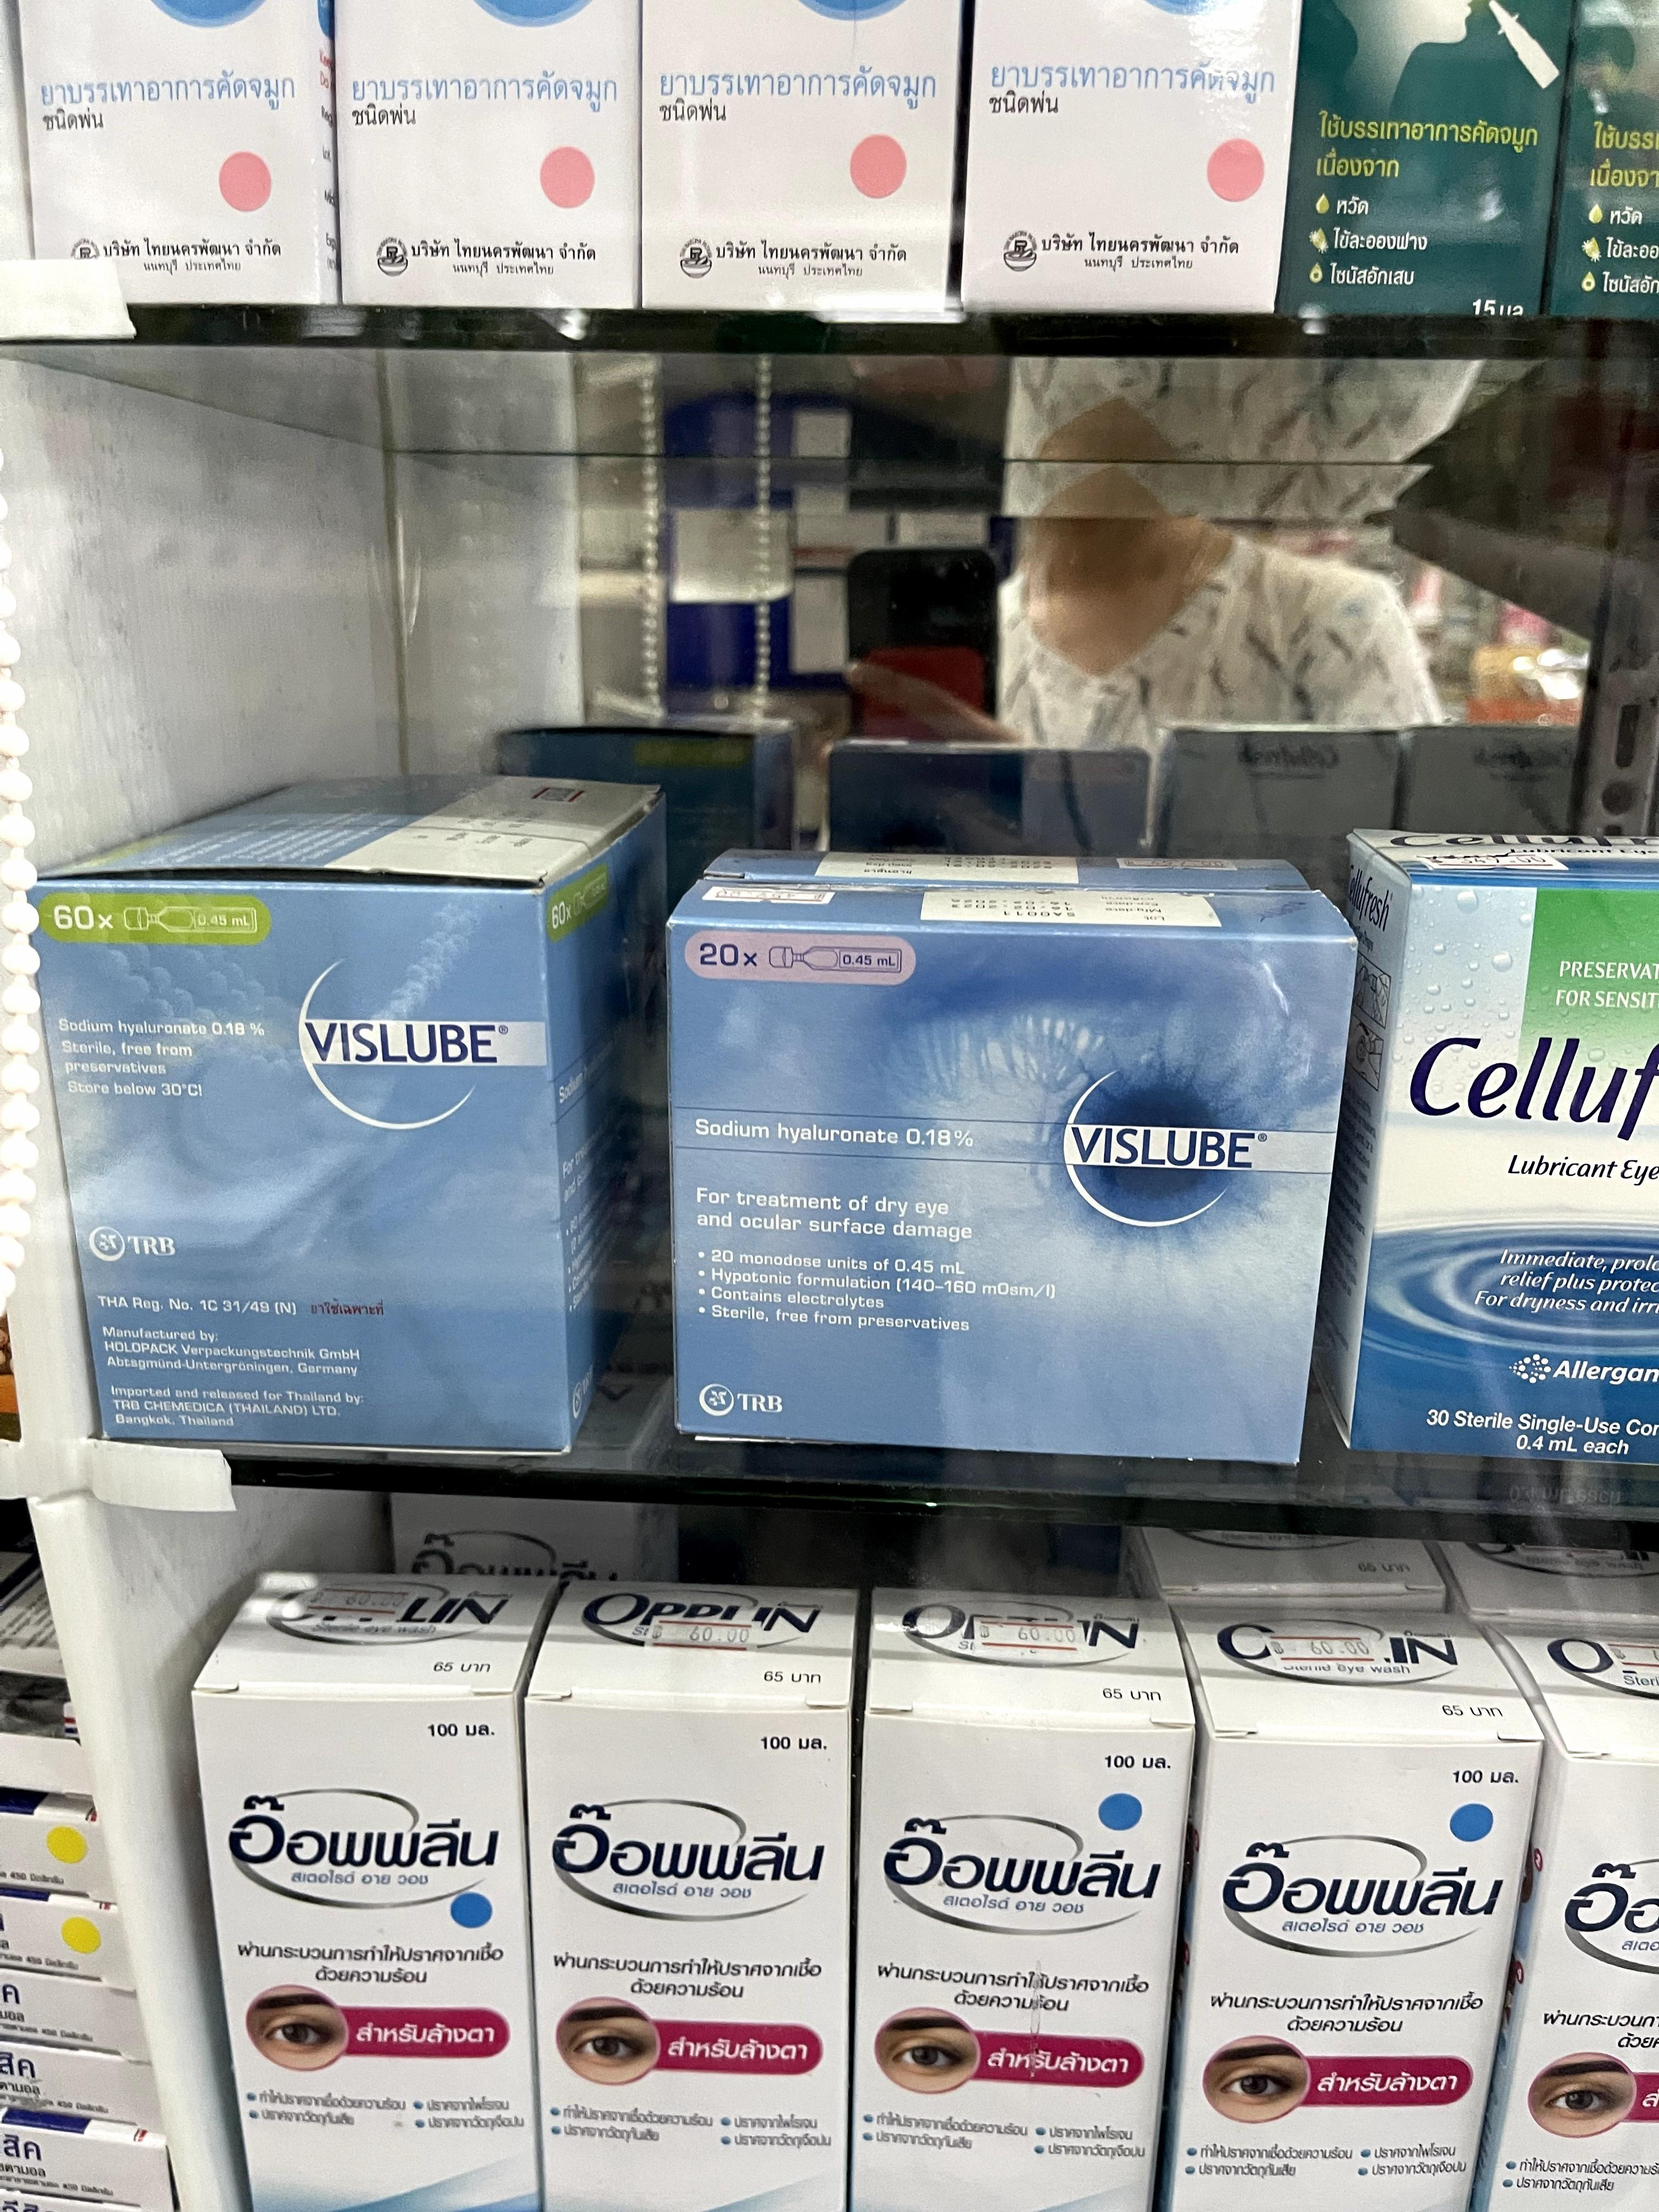Opplin: (202, 1575, 551, 2212), (1175, 1594, 1530, 2212), (538, 1578, 864, 2212), (861, 1588, 1182, 2212), (1506, 1622, 1659, 2212)
Vislube20: (669, 855, 1352, 1468)
Vislube60: (35, 777, 664, 1454)
